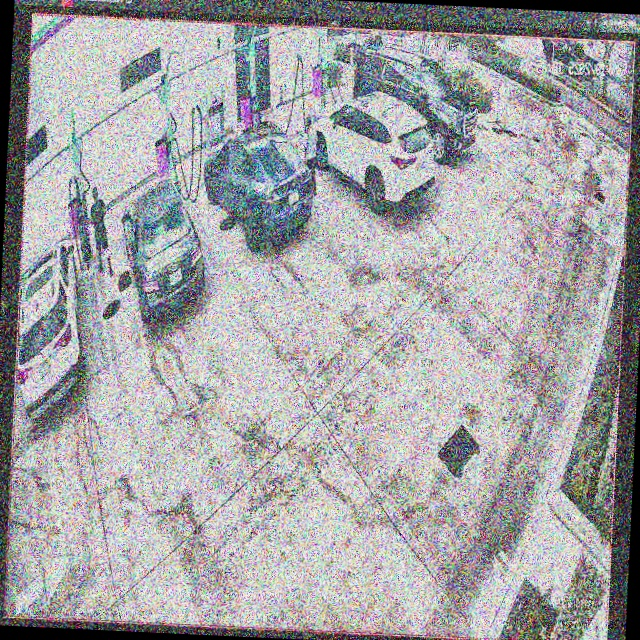Car: (201, 119, 316, 253), (303, 96, 438, 209), (352, 51, 482, 159), (117, 178, 209, 324)
